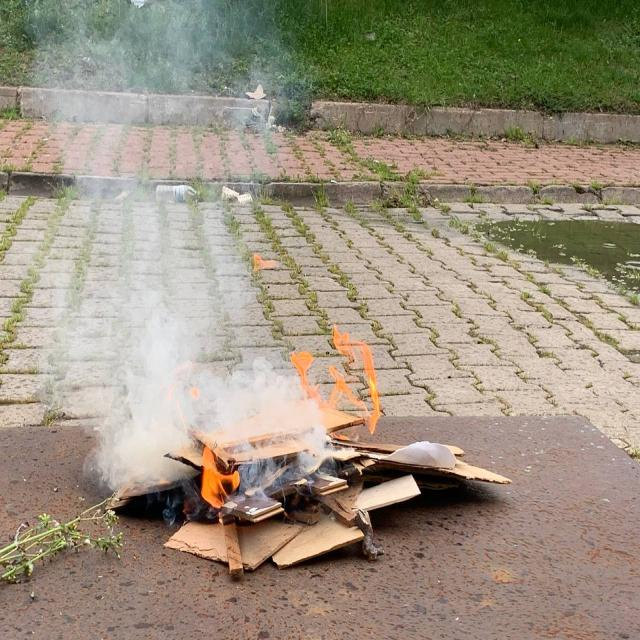fire: (288, 324, 408, 436), (190, 436, 243, 525), (252, 242, 282, 282)
